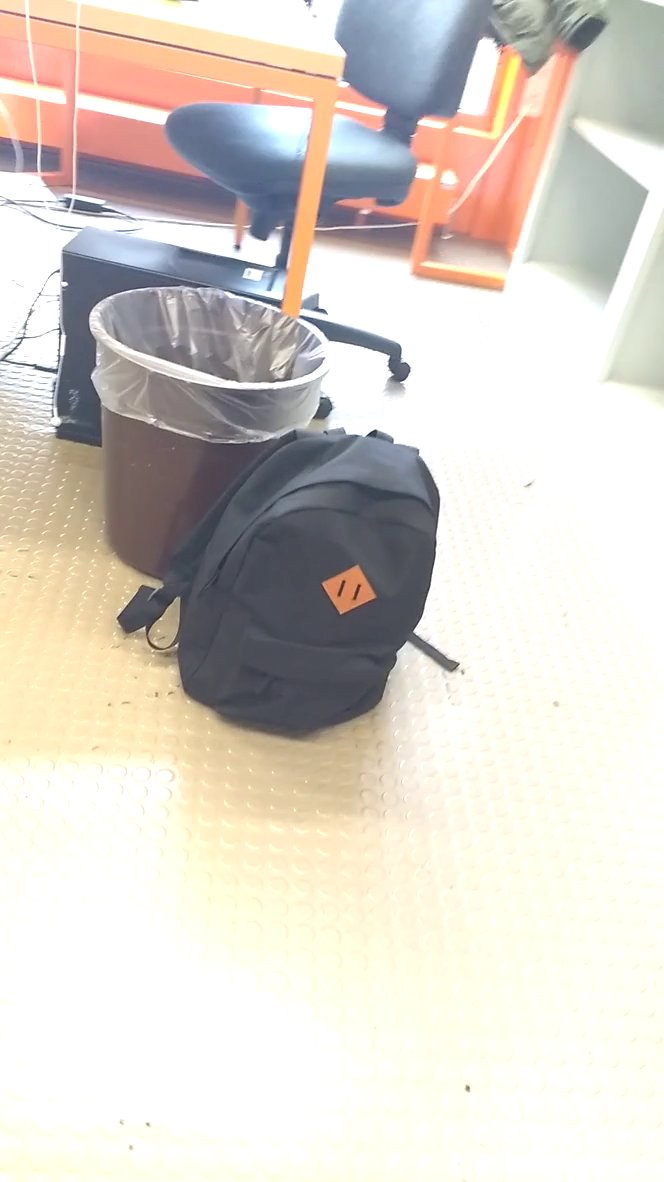bag: (116, 413, 449, 741)
bin: (81, 270, 347, 506)
chair: (169, 2, 510, 397)
